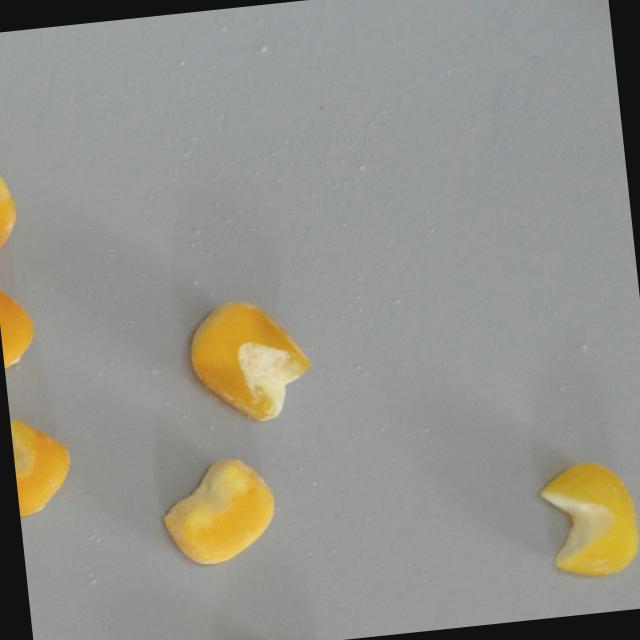pelicula: (178, 288, 320, 431), (154, 451, 283, 571), (532, 454, 640, 584), (8, 410, 77, 518), (0, 262, 41, 379), (0, 142, 27, 274)
